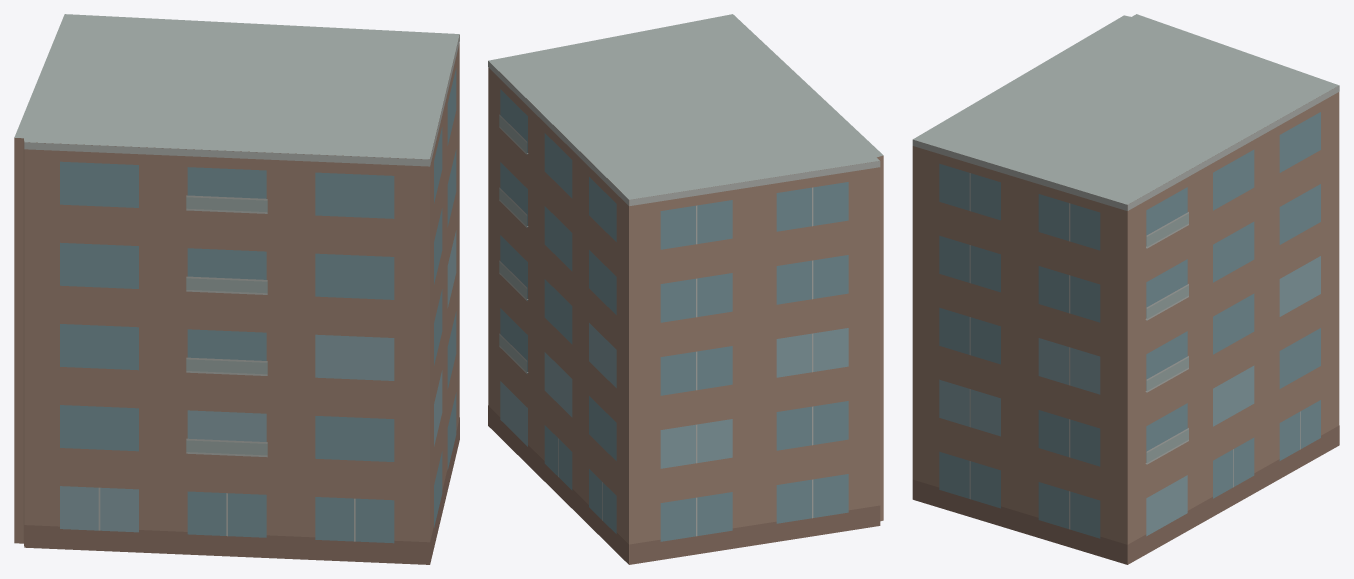
Rendered from survey-upis-32887345.glb.
3 renders of one model, left to right at view 1: azimuth 30°, elevation 25°; view 2: azimuth 150°, elevation 25°; view 3: azimuth 270°, elevation 25°, orthographic. The views are drawn at different scales.
Visible parts, largest first — view 1: survey-upis-32887345.tmp; view 2: survey-upis-32887345.tmp; view 3: survey-upis-32887345.tmp.
Boxes of the visible parts, bbox=[...] form: survey-upis-32887345.tmp: bbox=[14, 14, 459, 564]; survey-upis-32887345.tmp: bbox=[488, 14, 883, 564]; survey-upis-32887345.tmp: bbox=[912, 14, 1339, 564].
Bounding box in the file's own units: 15.81 × 13.9 × 14.94.
